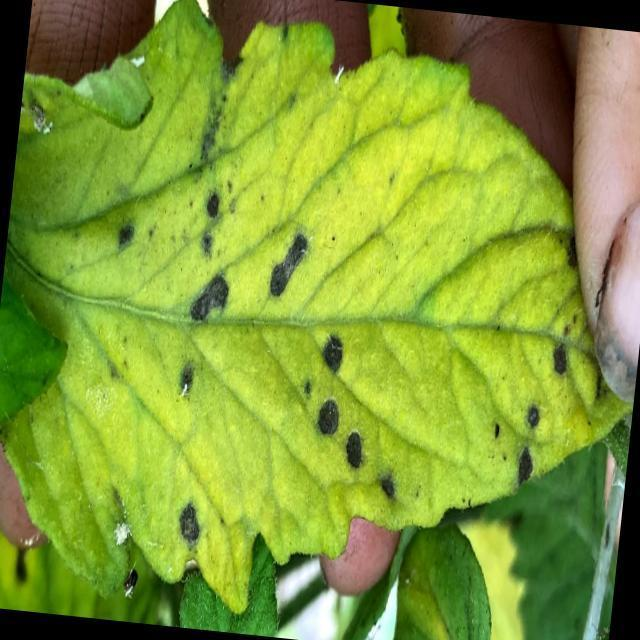Bacterial Spot: (144, 188, 419, 574), (487, 317, 586, 500)
